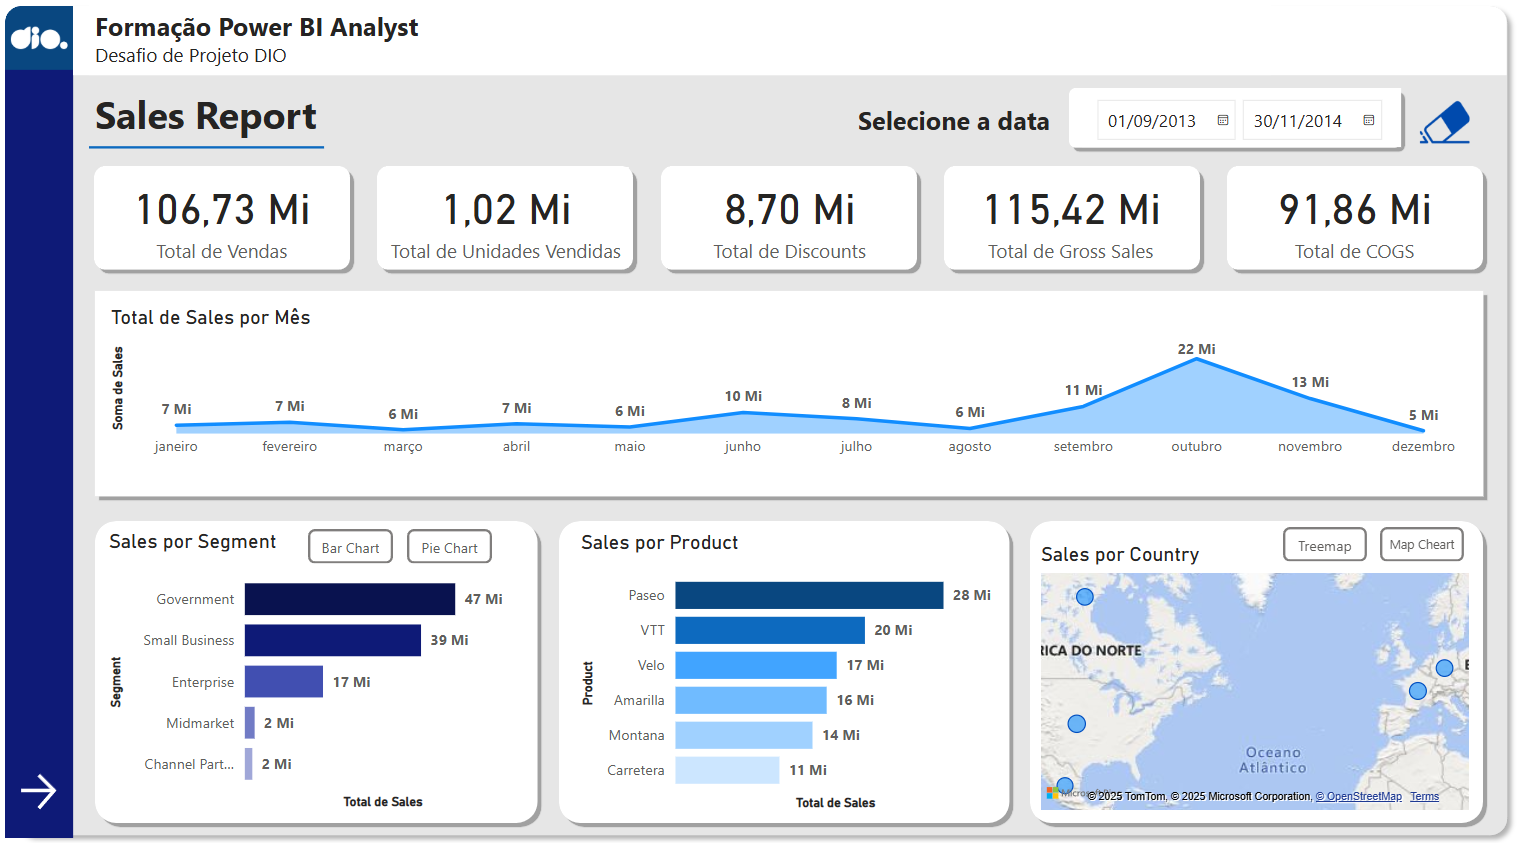

What the dashboard file says about the page in this screenshot:
{"tool":"powerbi","page":{"name":"Página 1","canvas":[1280,720],"ordinal":0},"visuals":[{"type":"shape","box":[0,0,1280,720],"z":0},{"type":"shape","box":[902.6,73.9,276.2,62.2],"z":0,"group":"g2"},{"type":"shape","box":[71.1,112.3,198.9,34.4],"z":0,"group":"g5"},{"type":"shape","box":[70,140,226.7,97.8],"z":0,"group":"g1"},{"type":"shape","box":[0,9,58,704],"z":1000},{"type":"textbox","box":[71.2,73.8,225,62.5],"z":1000,"group":"g5"},{"type":"shape","box":[309.7,140,226.7,97.8],"z":1000,"group":"g1"},{"type":"map","title":"Sales por Country","fields":{"Category":["financials.Country"],"Size":["Sum(financials. Sales)"]},"box":[872.1,462.6,371.9,231.6],"z":1000,"group":"g3"},{"type":"clusteredBarChart","title":"Sales por Segment","fields":{"Y":["Sum(financials. Sales)"],"Category":["financials.Segment"]},"box":[83.1,452.4,358.9,241.1],"z":1250,"group":"g4"},{"type":"actionButton","title":"Botão - Pie","box":[340.2,452.4,72,29.3],"z":1500,"group":"g4"},{"type":"shape","box":[0,8.9,57.8,54.4],"z":2000},{"type":"slicer","fields":{"Values":["financials.Date"]},"box":[912.3,78.8,250,50.6],"z":2000,"group":"g2"},{"type":"shape","box":[549.4,140,226.7,97.8],"z":2000,"group":"g1"},{"type":"actionButton","title":"Botão - Map","box":[1163.7,449.8,71,29.3],"z":2000,"group":"g3"},{"type":"actionButton","title":"Botão - Bar","box":[256.9,452.4,72,29.3],"z":2000,"group":"g4"},{"type":"shape","box":[57.8,8.9,1213.3,58.9],"z":3000},{"type":"textbox","box":[716.8,86.5,184.8,46.7],"z":3000,"group":"g2"},{"type":"shape","box":[789.2,140,226.7,97.8],"z":3000,"group":"g1"},{"type":"actionButton","title":"Botão - Treemap","box":[1081.4,449.8,71,29.3],"z":3000,"group":"g3"},{"type":"image","title":"logo_dio","box":[0,6.7,57.8,58.9],"z":4000},{"type":"shape","box":[1028.9,140,226.7,97.8],"z":4000,"group":"g1"},{"type":"textbox","box":[70.8,6.7,1000,60.8],"z":5000},{"type":"card","fields":{"Values":["Sum(financials.COGS)"]},"box":[1048.9,146.7,185.6,83.3],"z":5000,"group":"g1"},{"type":"group","id":"g1","title":"Cartões","box":[70,140,1185.6,97.8],"z":6000},{"type":"card","fields":{"Values":["Sum(financials.Units Sold)"]},"box":[320,145.8,207.9,84.7],"z":6000,"group":"g1"},{"type":"card","fields":{"Values":["Sum(financials.Discounts)"]},"box":[571.1,146.7,185.6,83.3],"z":7000,"group":"g1"},{"type":"shape","box":[70.9,245.5,1184.5,183.6],"z":7000},{"type":"card","fields":{"Values":["Sum(financials. Sales)"]},"box":[90,146.7,185.6,83.3],"z":8000,"group":"g1"},{"type":"actionButton","box":[8,654,46,40],"z":8000},{"type":"card","fields":{"Values":["Sum(financials.Gross Sales)"]},"box":[808.9,146.7,185.6,83.3],"z":9000,"group":"g1"},{"type":"shape","box":[71.1,440,384.4,265.6],"z":9000},{"type":"shape","box":[463.3,440,391.1,265.6],"z":10000},{"type":"shape","box":[862.2,440,393.3,265.6],"z":11000},{"type":"areaChart","title":"Total de Sales por Mês","fields":{"Category":["financials.Date.Variation.Hierarquia de datas.Mês"],"Y":["Sum(financials. Sales)"]},"box":[84.4,262.2,1158.9,137.8],"z":12000},{"type":"image","title":"clean","box":[1192.5,78.8,51.6,57.4],"z":12750},{"type":"actionButton","box":[1186.6,84.6,63.2,50.6],"z":12875},{"type":"clusteredBarChart","title":"Sales por Product","fields":{"Y":["Sum(financials. Sales)"],"Category":["financials.Product"]},"box":[482.5,452.5,361.2,241.2],"z":13000},{"type":"group","id":"g2","title":"Filtro por data","box":[716.8,73.9,462,62.2],"z":14000},{"type":"group","id":"g3","title":"Sales x País","box":[871.8,449.8,372.2,244.3],"z":15000},{"type":"group","id":"g4","title":"Sales x Segmento","box":[83.1,452.1,359.4,241.8],"z":16000},{"type":"group","id":"g5","title":"Title report","box":[71.1,73.8,225.1,72.9],"z":17000}]}

Visuals, with their boxes on the page's 1280x720 design canvas (x1, y1, x2, y2). These are canvas units, not pixel positions in the 1517x843 screenshot, which may show the page scaled, cropped or inside an application window:
shape: 0 0 1280 720
shape: 903 74 1179 136
shape: 71 112 270 147
shape: 70 140 297 238
shape: 0 9 58 713
textbox: 71 74 296 136
shape: 310 140 536 238
"Sales por Country" map: 872 463 1244 694
"Sales por Segment" clusteredBarChart: 83 452 442 694
"Botão - Pie" actionButton: 340 452 412 482
shape: 0 9 58 63
slicer - financials.Date: 912 79 1162 129
shape: 549 140 776 238
"Botão - Map" actionButton: 1164 450 1235 479
"Botão - Bar" actionButton: 257 452 329 482
shape: 58 9 1271 68
textbox: 717 86 902 133
shape: 789 140 1016 238
"Botão - Treemap" actionButton: 1081 450 1152 479
"logo_dio" image: 0 7 58 66
shape: 1029 140 1256 238
textbox: 71 7 1071 68
card - Sum(financials.COGS): 1049 147 1234 230
"Cartões" group: 70 140 1256 238
card - Sum(financials.Units Sold): 320 146 528 230
card - Sum(financials.Discounts): 571 147 757 230
shape: 71 246 1255 429
card - Sum(financials. Sales): 90 147 276 230
actionButton: 8 654 54 694
card - Sum(financials.Gross Sales): 809 147 994 230
shape: 71 440 456 706
shape: 463 440 854 706
shape: 862 440 1256 706
"Total de Sales por Mês" areaChart: 84 262 1243 400
"clean" image: 1192 79 1244 136
actionButton: 1187 85 1250 135
"Sales por Product" clusteredBarChart: 482 452 844 694
"Filtro por data" group: 717 74 1179 136
"Sales x País" group: 872 450 1244 694
"Sales x Segmento" group: 83 452 442 694
"Title report" group: 71 74 296 147
